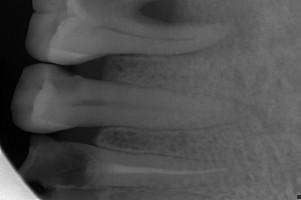Dental Caries: (139, 0, 262, 59)
